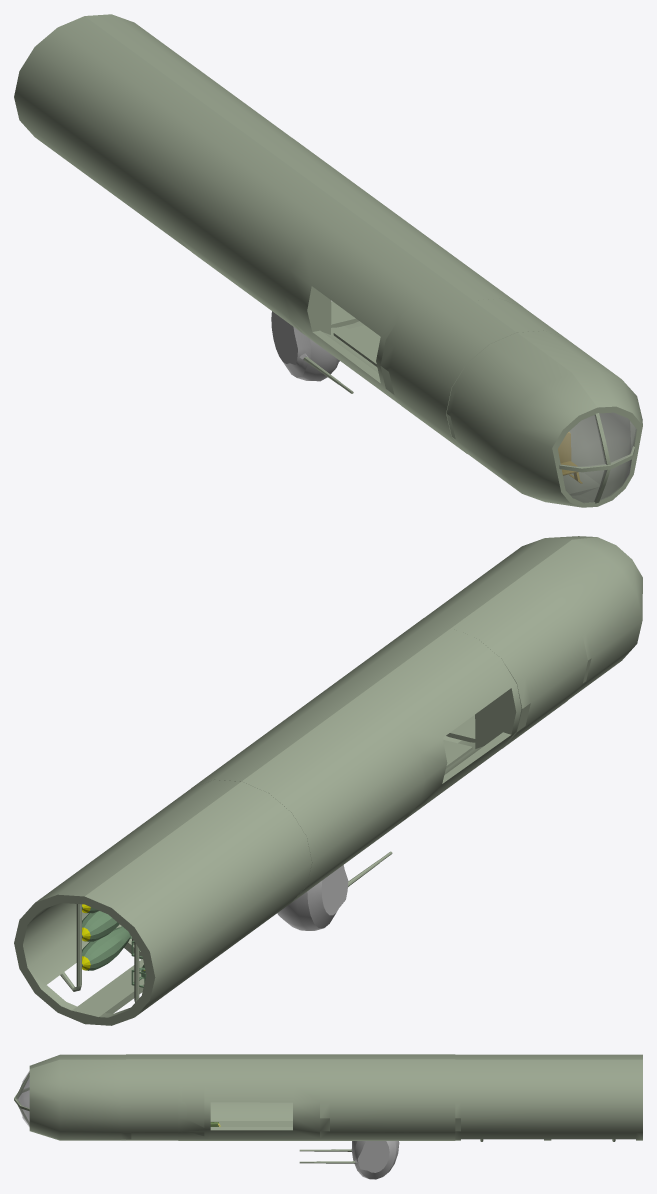
3 renders of one model, top to bottom at view 1: azimuth 30°, elevation 25°; view 2: azimuth 150°, elevation 25°; view 3: azimuth 270°, elevation 25°, orthographic. The views are drawn at different scales.
Parts seen in each view (by area): view 1: polySurface435; view 2: polySurface435; view 3: polySurface435.
Boxes of the visible parts, x1,y1,x2,y2 form: polySurface435: (14,14,642,507); polySurface435: (14,536,642,1025); polySurface435: (14,1054,642,1179).
Size of the model in its own units: 14.04 by 18.72 by 90.32.
